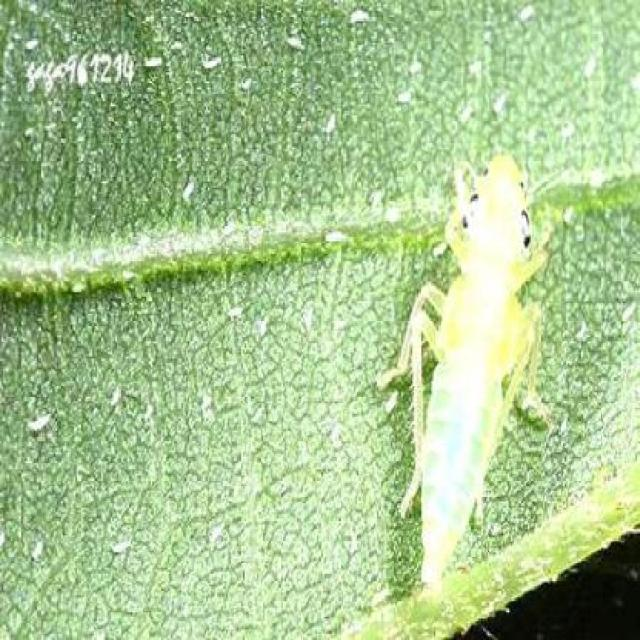green-leafhopper: (400, 148, 545, 588)
